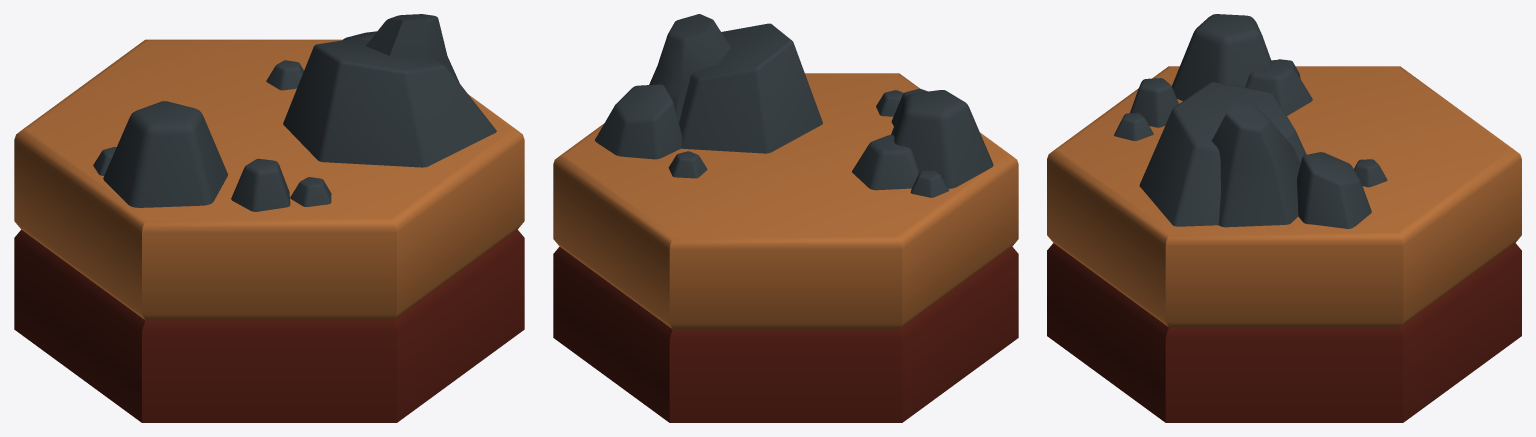
The model's file is kay_desertTile_variation_A.glb.
The picture shows the model from 3 angles, left to right: view 1: azimuth 30°, elevation 25°; view 2: azimuth 150°, elevation 25°; view 3: azimuth 270°, elevation 25°; orthographic projection. The views are drawn at different scales.
Parts seen in each view (by area): view 1: mergedBlocks(Clone); view 2: mergedBlocks(Clone); view 3: mergedBlocks(Clone).
Part boxes in pixels (x1=…): mergedBlocks(Clone): x1=14, y1=14, x2=524, y2=422; mergedBlocks(Clone): x1=553, y1=14, x2=1018, y2=422; mergedBlocks(Clone): x1=1047, y1=14, x2=1521, y2=422.
Size of the model in its own units: 2 by 1.51 by 2.31.
